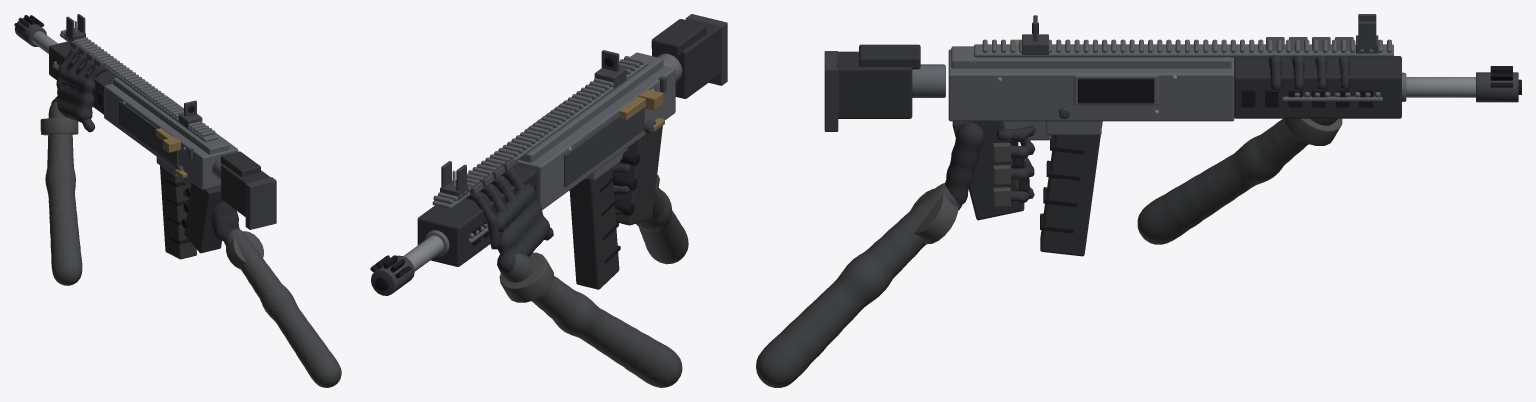
File: viewmodel_vector.glb
3 views of the same model, side by side, from view 1: azimuth 30°, elevation 25°; view 2: azimuth 150°, elevation 25°; view 3: azimuth 270°, elevation 25° (orthographic). The views are drawn at different scales.
Parts seen in each view (by area): view 1: part_vm_cuff, part_vm_body, part_vm_poly, part_vm_body_dark, part_vm_glove2, part_vm_plate, part_vm_bore2, part_vm_accent2, part_vm_steel2; view 2: part_vm_poly, part_vm_body, part_vm_cuff, part_vm_body_dark, part_vm_glove2, part_vm_plate, part_vm_bore2, part_vm_steel2, part_vm_accent2; view 3: part_vm_body, part_vm_poly, part_vm_cuff, part_vm_bore2, part_vm_glove2, part_vm_plate, part_vm_body_dark, part_vm_steel2.
Part boxes in pixels (x1,y1,x2,y2): part_vm_cuff: [45, 101, 341, 387]; part_vm_body: [52, 28, 238, 189]; part_vm_poly: [49, 41, 270, 259]; part_vm_body_dark: [14, 14, 276, 229]; part_vm_glove2: [51, 48, 239, 241]; part_vm_plate: [40, 41, 263, 269]; part_vm_bore2: [14, 15, 194, 244]; part_vm_accent2: [155, 128, 187, 178]; part_vm_steel2: [32, 21, 185, 150]; part_vm_poly: [417, 18, 720, 289]; part_vm_body: [425, 52, 682, 256]; part_vm_cuff: [500, 187, 688, 387]; part_vm_body_dark: [371, 14, 727, 295]; part_vm_glove2: [466, 163, 631, 273]; part_vm_plate: [468, 158, 659, 302]; part_vm_bore2: [370, 56, 639, 290]; part_vm_steel2: [403, 88, 654, 271]; part_vm_accent2: [619, 89, 664, 131]; part_vm_body: [912, 39, 1406, 140]; part_vm_poly: [836, 44, 1401, 256]; part_vm_cuff: [756, 118, 1337, 387]; part_vm_bore2: [1005, 22, 1521, 233]; part_vm_glove2: [945, 55, 1349, 204]; part_vm_plate: [910, 37, 1353, 244]; part_vm_body_dark: [824, 14, 1518, 131]; part_vm_steel2: [997, 75, 1475, 114].
Bounding box in the file's own units: 0.2282 × 0.3292 × 0.6833.
